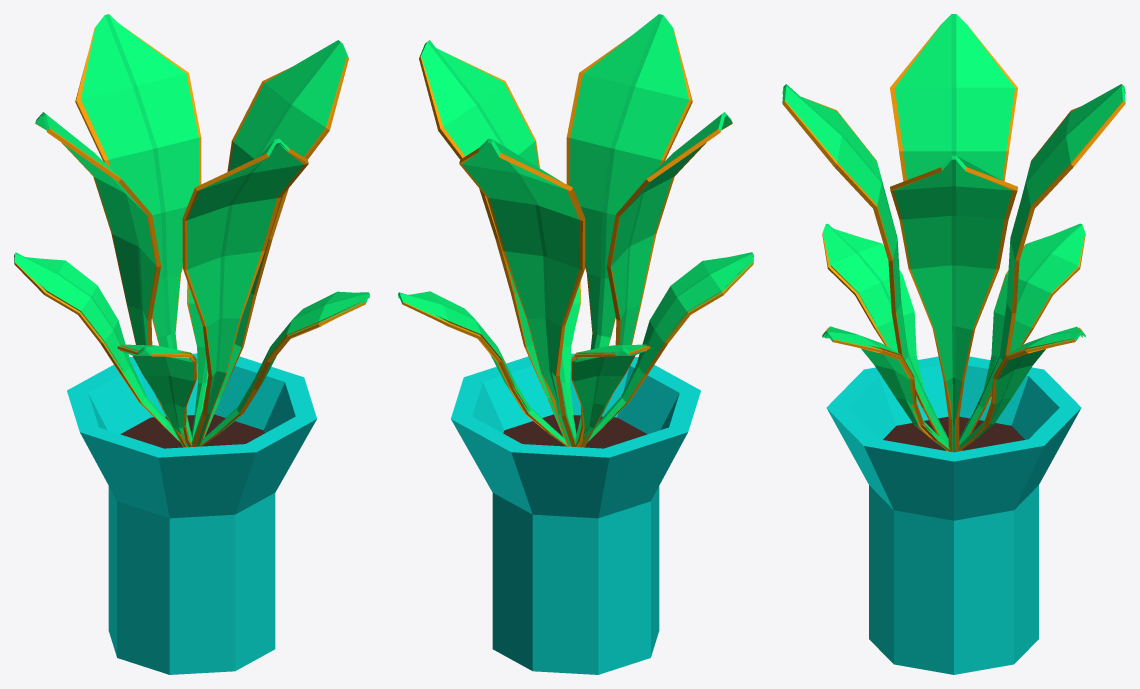
The model's file is Plant.fbx.
3 renders of one model, left to right at view 1: azimuth 30°, elevation 25°; view 2: azimuth 150°, elevation 25°; view 3: azimuth 270°, elevation 25°, orthographic.
Visible parts, largest first — view 1: Plant; view 2: Plant; view 3: Plant.
Boxes of the visible parts, <box> form: Plant: <box>14,14,369,674</box>; Plant: <box>398,14,753,674</box>; Plant: <box>782,14,1125,674</box>.
Size of the model in its own units: 80.7 by 144 by 80.7.
